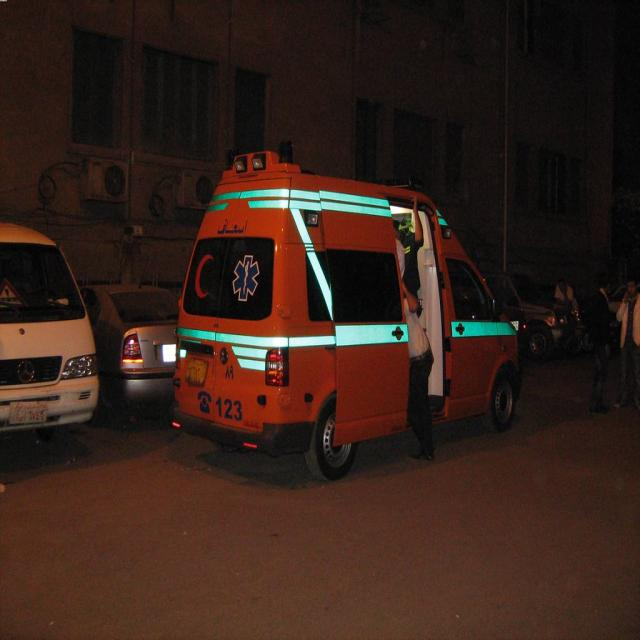Ambulance: (168, 140, 522, 482)
car: (78, 282, 180, 426)
